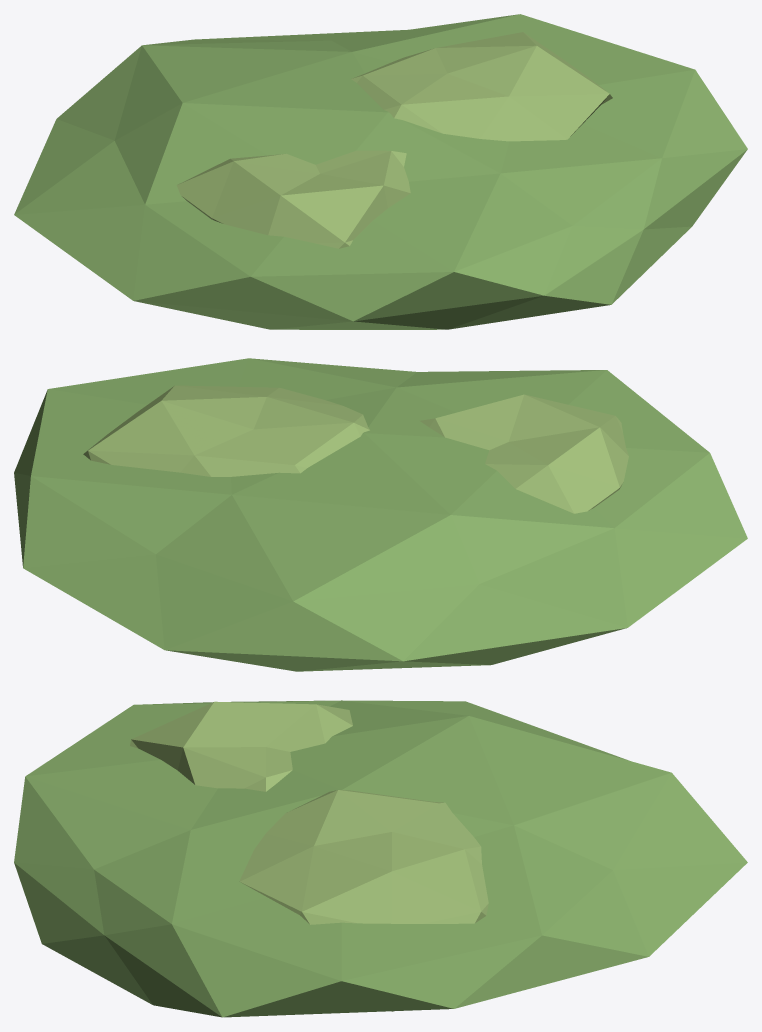
The model's file is moss.fbx.
3 renders of one model, top to bottom at view 1: azimuth 30°, elevation 25°; view 2: azimuth 150°, elevation 25°; view 3: azimuth 270°, elevation 25°, orthographic. The views are drawn at different scales.
Visible parts, largest first — view 1: moss; view 2: moss; view 3: moss.
Part boxes in pixels (left/top/right/bottom): moss: left=14, top=14, right=747, bottom=329; moss: left=14, top=358, right=747, bottom=671; moss: left=14, top=700, right=747, bottom=1017.
Size of the model in its own units: 2.99 by 0.6564 by 2.91.
